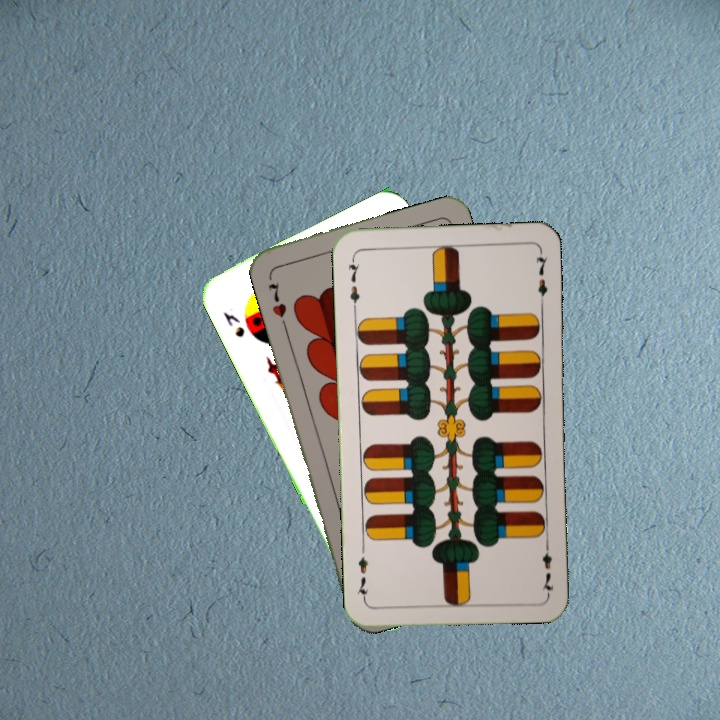E7: (344, 253, 363, 312), (538, 537, 556, 596)
H7: (264, 277, 289, 321)
SK: (218, 307, 248, 340)
